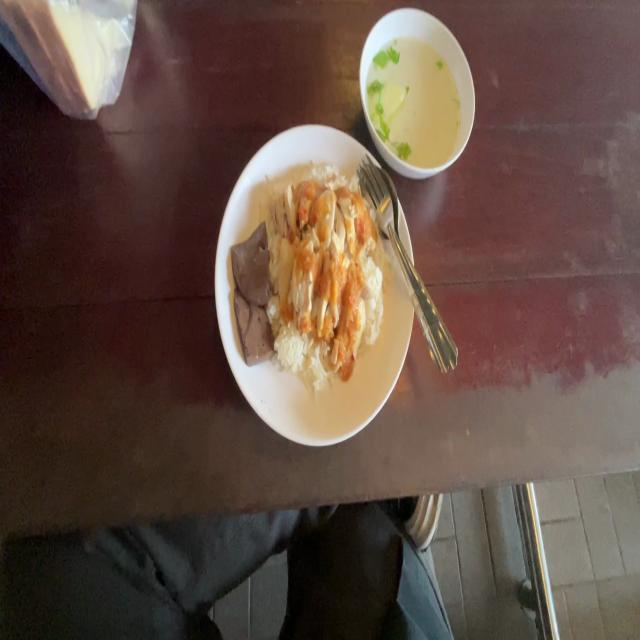boiled_chicken: (271, 193, 366, 335)
boiled_chicken_blood_jelly: (230, 273, 276, 364), (231, 220, 276, 305)
chicken_rice: (232, 160, 386, 381)
